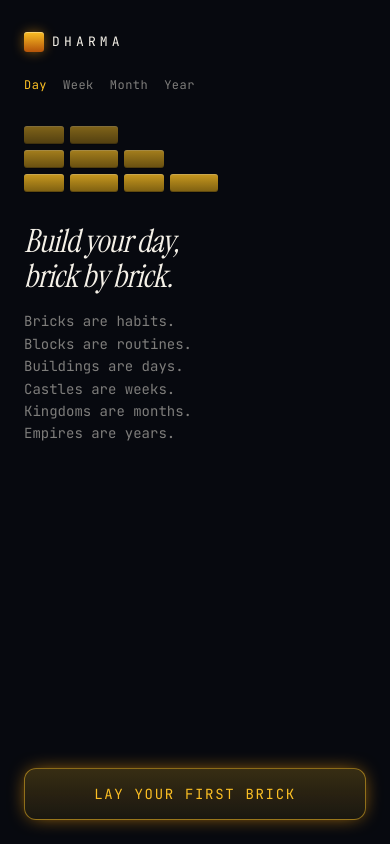
Scenario: Welcome › 'Lay your first brick' reveals the email+password sign-in (sign-in required, not skipped)
The width and height of the screenshot is (390, 844).
Click the button with test id "welcome-begin" at (195, 794), box top-left (24, 768), bottom-right (366, 820)
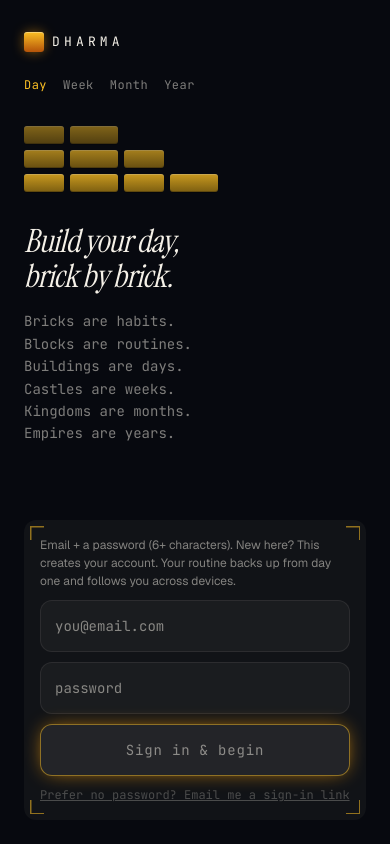
Check: the field with test id "welcome-email" is shown, box top-left (40, 600), bottom-right (350, 652)
Check: the password field with test id "welcome-password" is shown, box top-left (40, 662), bottom-right (350, 714)
Check: the button with test id "welcome-submit" is shown, box top-left (40, 724), bottom-right (350, 776)
